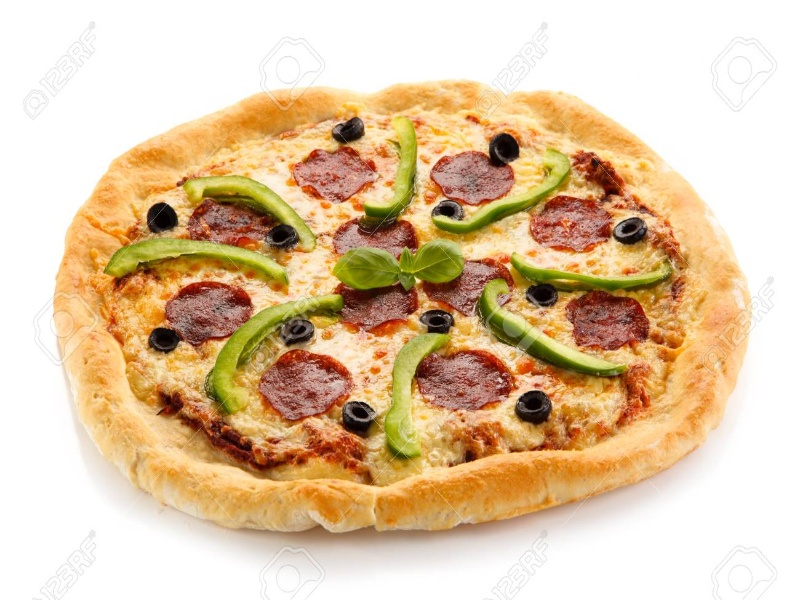olive noir: (140, 199, 188, 234), (511, 387, 554, 425), (413, 305, 464, 337), (483, 125, 526, 162), (274, 316, 321, 346), (340, 401, 380, 433), (142, 325, 185, 354), (326, 118, 371, 145), (611, 213, 649, 244), (523, 279, 561, 310), (257, 224, 299, 252)
pepperonis: (253, 348, 349, 422), (410, 348, 514, 412), (161, 274, 257, 340), (562, 292, 658, 355), (287, 146, 382, 208), (433, 145, 523, 204), (530, 195, 611, 256)
